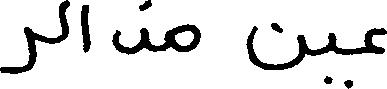X: (249, 18, 303, 74), (115, 0, 147, 59), (0, 22, 33, 78), (168, 19, 198, 56), (367, 23, 386, 58), (80, 0, 87, 57), (59, 0, 66, 47), (330, 28, 333, 88)
